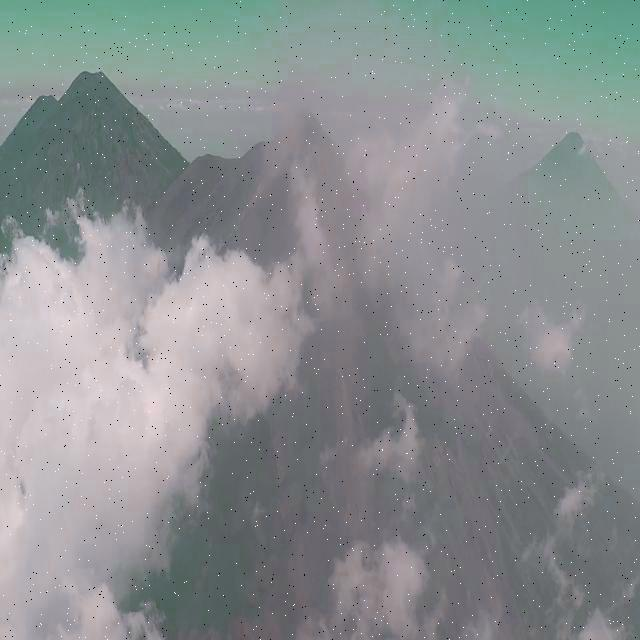Summit: (240, 100, 351, 205)
